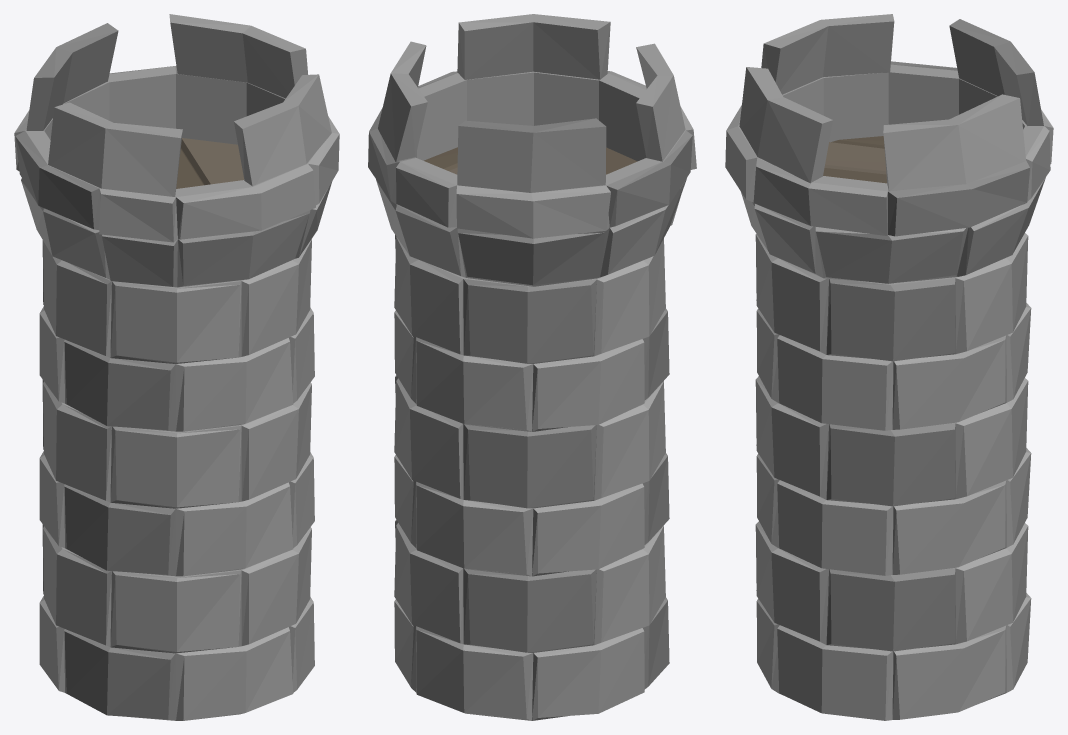
File: _tower_03_1_full.fbx
The picture shows the model from 3 angles, left to right: view 1: azimuth 30°, elevation 25°; view 2: azimuth 150°, elevation 25°; view 3: azimuth 270°, elevation 25°; orthographic projection.
Parts seen in each view (by area): view 1: TOWER_3_UP_01, TOWER_3_BLOCK_02, TOWER_3_BLOCK_01, TOWER_3_BLOCK_03; view 2: TOWER_3_UP_01, TOWER_3_BLOCK_03, TOWER_3_BLOCK_01, TOWER_3_BLOCK_02; view 3: TOWER_3_UP_01, TOWER_3_BLOCK_03, TOWER_3_BLOCK_02, TOWER_3_BLOCK_01.
Part boxes in pixels (left/top/right/bottom): TOWER_3_UP_01: left=14, top=14, right=339, bottom=287; TOWER_3_BLOCK_02: left=39, top=380, right=314, bottom=576; TOWER_3_BLOCK_01: left=39, top=524, right=314, bottom=720; TOWER_3_BLOCK_03: left=39, top=239, right=314, bottom=431; TOWER_3_UP_01: left=368, top=14, right=696, bottom=286; TOWER_3_BLOCK_03: left=394, top=235, right=669, bottom=431; TOWER_3_BLOCK_01: left=394, top=519, right=669, bottom=720; TOWER_3_BLOCK_02: left=394, top=375, right=669, bottom=576; TOWER_3_UP_01: left=725, top=14, right=1053, bottom=283; TOWER_3_BLOCK_03: left=755, top=233, right=1031, bottom=430; TOWER_3_BLOCK_02: left=755, top=376, right=1031, bottom=575; TOWER_3_BLOCK_01: left=755, top=521, right=1031, bottom=720.
Size of the model in its own units: 373 by 754 by 377.
